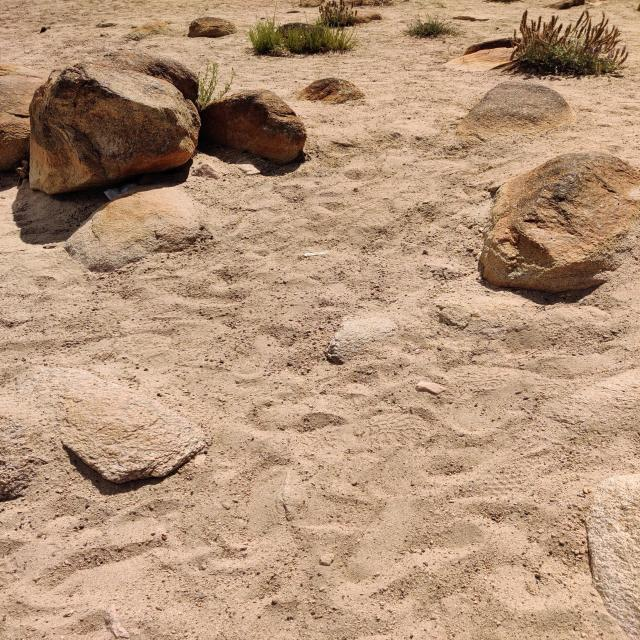litter: (103, 183, 275, 247)
